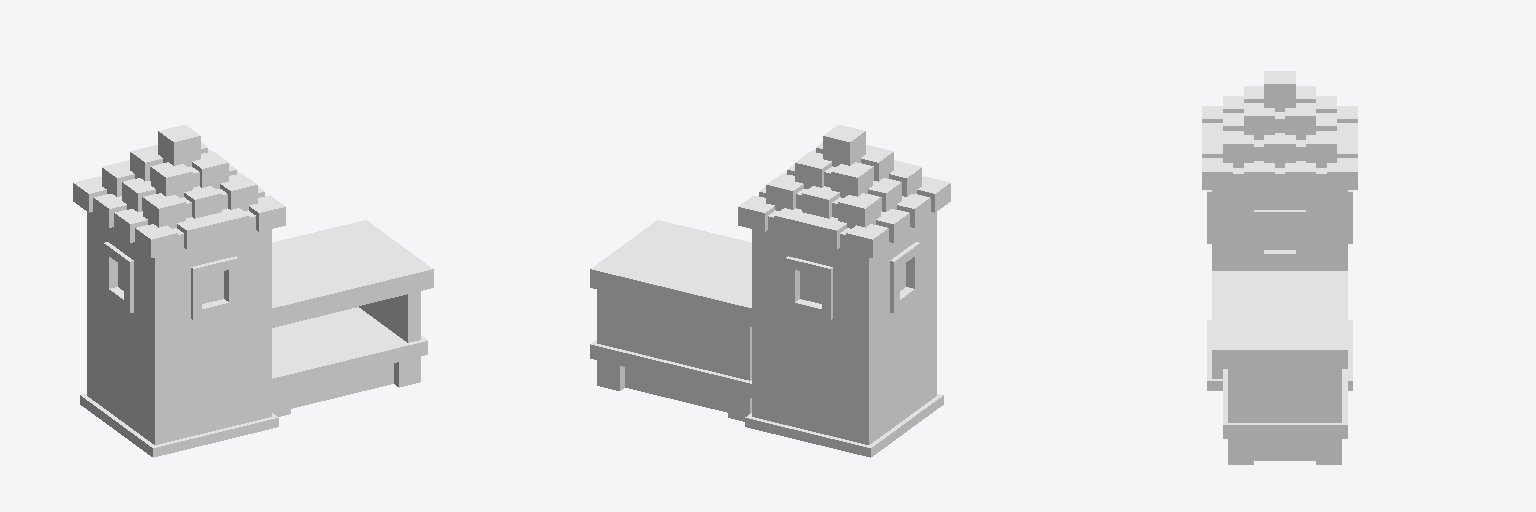
File: building5.vox.obj
3 views of the same model, side by side, from view 1: azimuth 30°, elevation 25°; view 2: azimuth 150°, elevation 25°; view 3: azimuth 270°, elevation 25° (orthographic).
Parts seen in each view (by area): view 1: object 1; view 2: object 1; view 3: object 1.
Part boxes in pixels (x1,y1,x2,y2): object 1: (73,125,433,457); object 1: (590,125,950,457); object 1: (1202,71,1357,464).
Bounding box in the file's own units: 6.4 × 6 × 3.